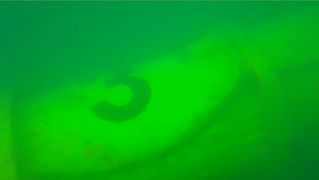3: (80, 66, 152, 122)
pipe: (1, 4, 318, 180)
